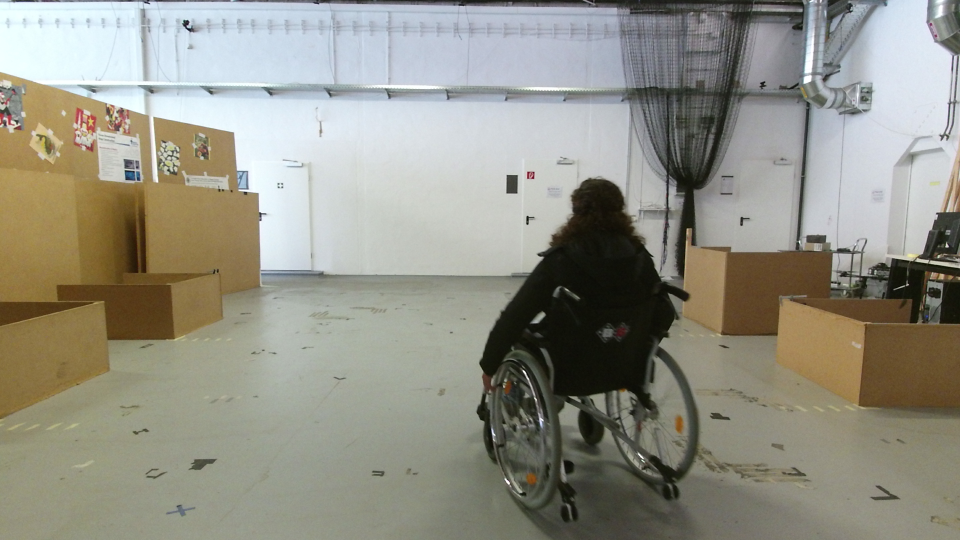wheelchair: (472, 169, 703, 525)
